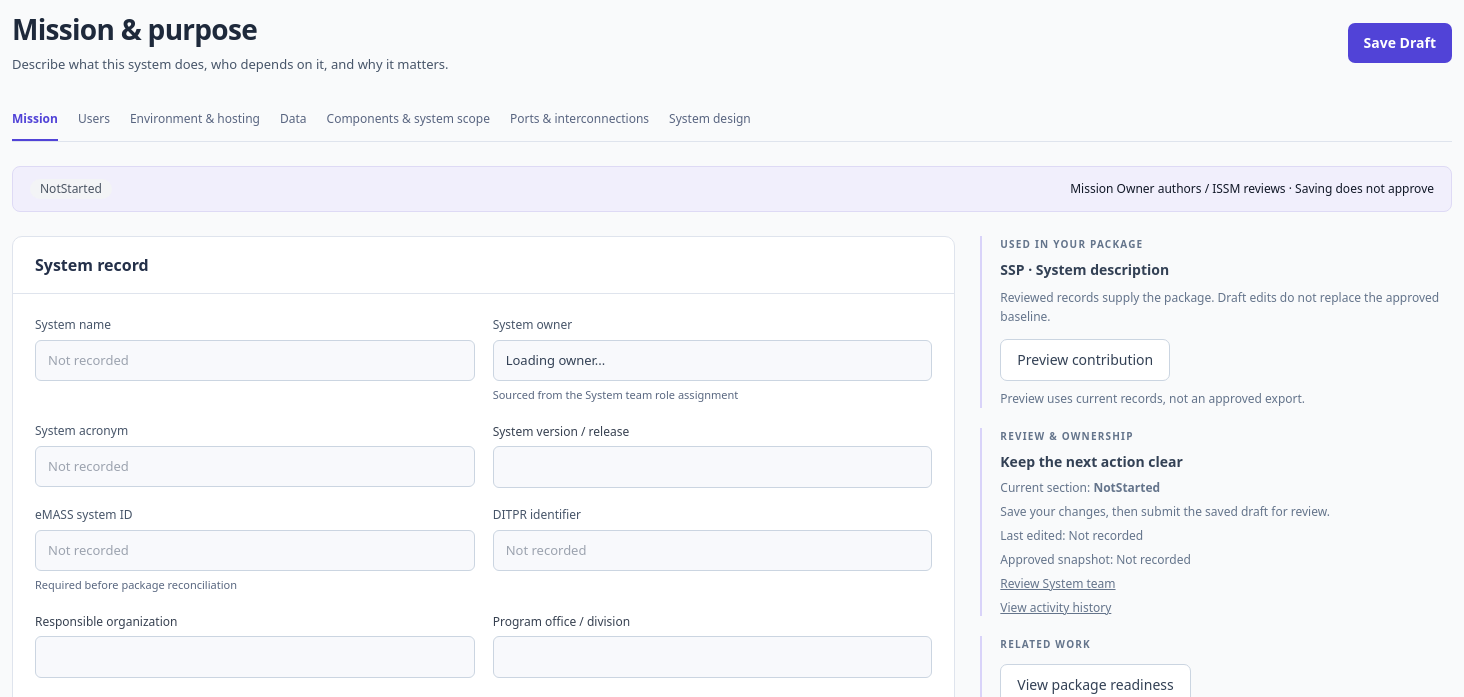
Test: server-authoritative profile editing (#968) › uses the safe fallback for rejected saves ({})
Click the button "Save Draft": (1400, 43) [1348,23,1452,63]
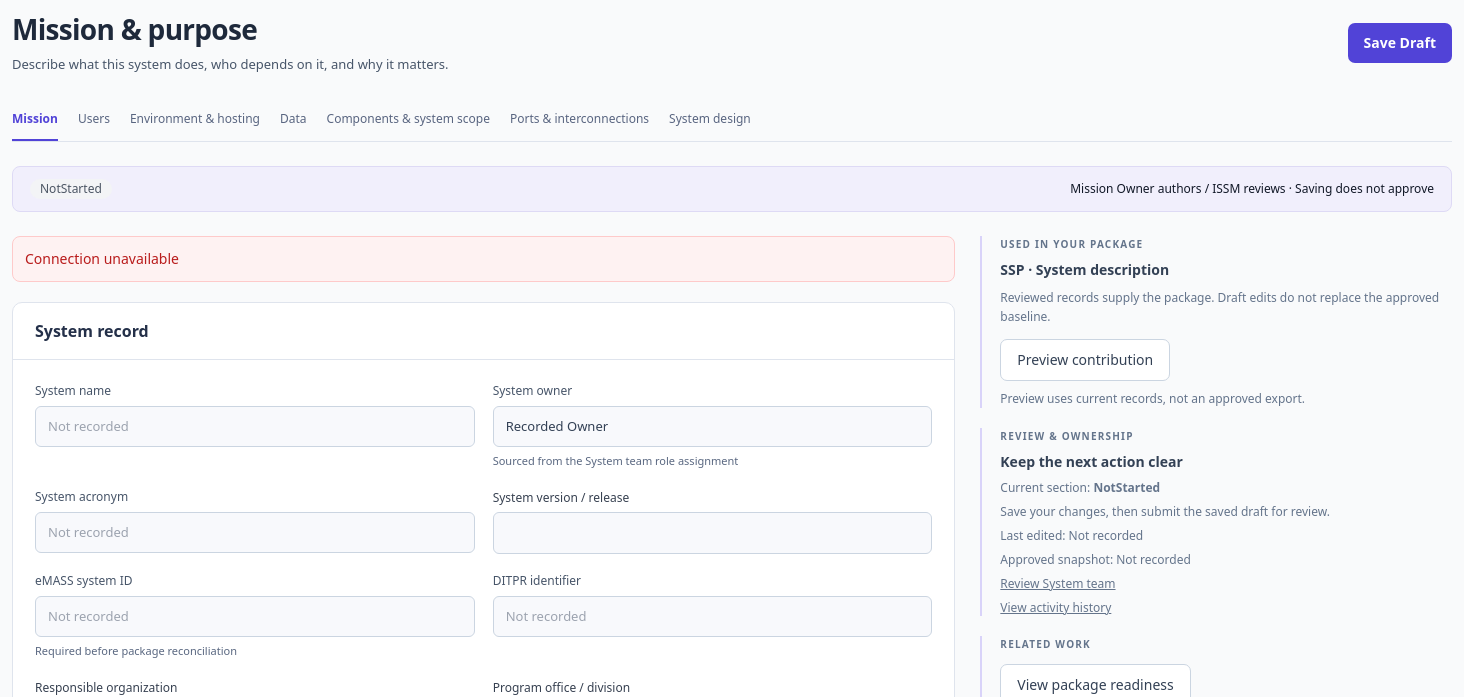
Expected: the text "Connection unavailable" is shown, [12,236,955,282]
